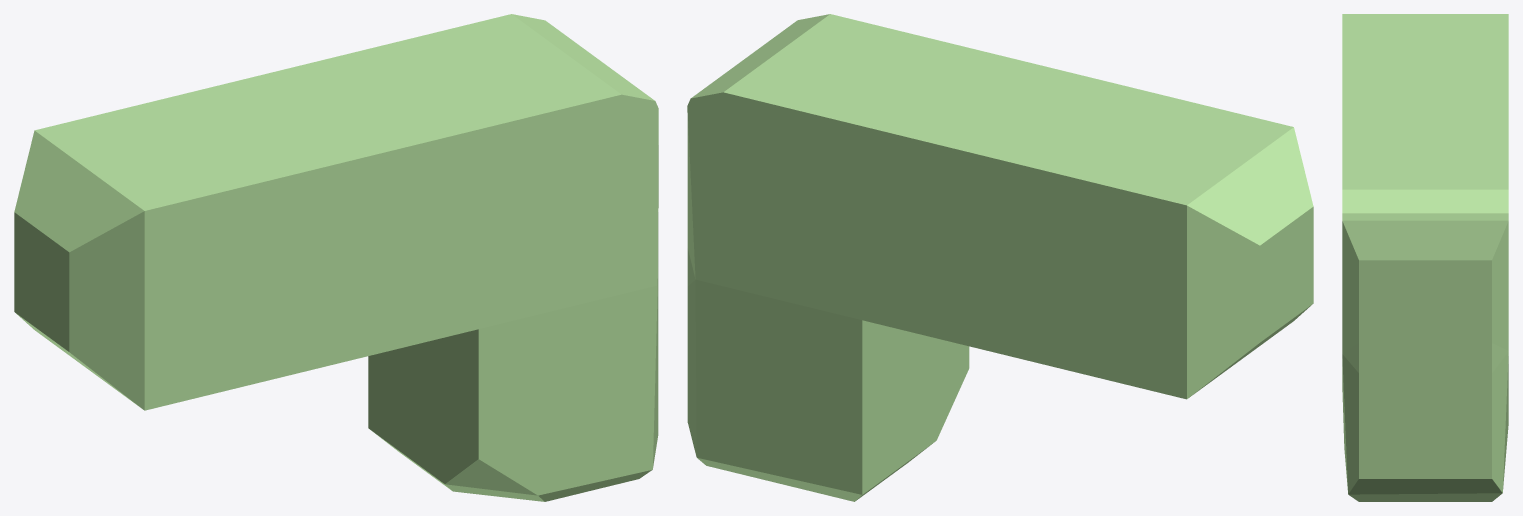
Rendered from temp_weapon.glb.
3 renders of one model, left to right at view 1: azimuth 30°, elevation 25°; view 2: azimuth 150°, elevation 25°; view 3: azimuth 270°, elevation 25°, orthographic. The views are drawn at different scales.
Visible parts, largest first — view 1: Cube; view 2: Cube; view 3: Cube.
Boxes of the visible parts, x1=… form: Cube: x1=14, y1=14, x2=658, y2=501; Cube: x1=687, y1=14, x2=1313, y2=501; Cube: x1=1342, y1=14, x2=1508, y2=501.
Bounding box in the file's own units: 1.8 × 1.2 × 0.6.
